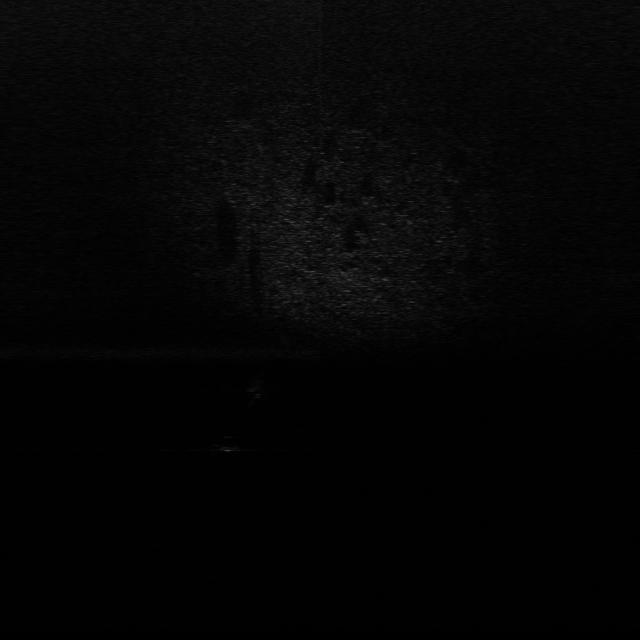ball: (217, 434, 242, 454)
human body: (244, 366, 268, 414)
